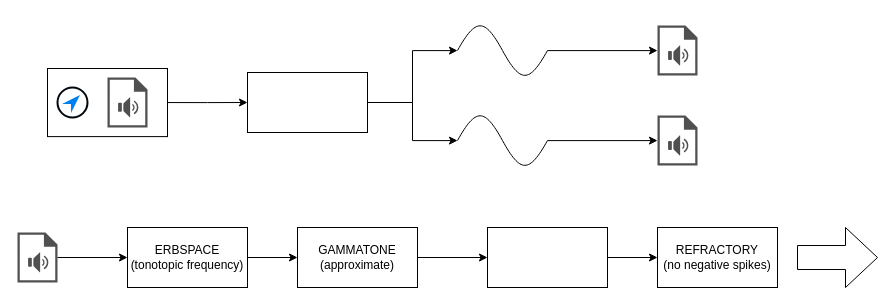
This 895x305 diagram has some shape labels left out. The shapes that lost their labels are listed below. From the top down, each one's centre as x and y in pixels, then its label:
point (307, 102): HRTF
point (547, 257): COMPRESSION (OHC/active hearing)
